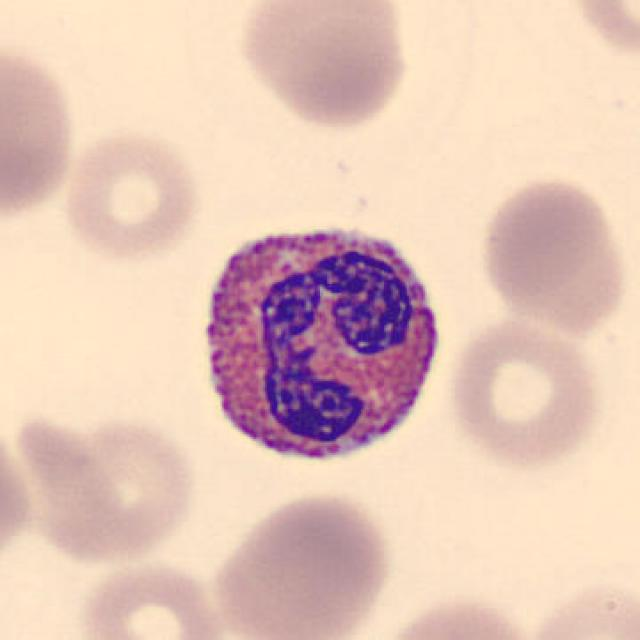Eosinophil: (187, 206, 453, 482)
RBC: (9, 409, 203, 568), (206, 488, 396, 640), (442, 312, 604, 473), (475, 171, 629, 333), (235, 0, 414, 134), (59, 123, 204, 268), (0, 37, 82, 227), (77, 555, 231, 640), (371, 590, 540, 640), (519, 575, 640, 640), (0, 409, 37, 574), (563, 0, 640, 63)
